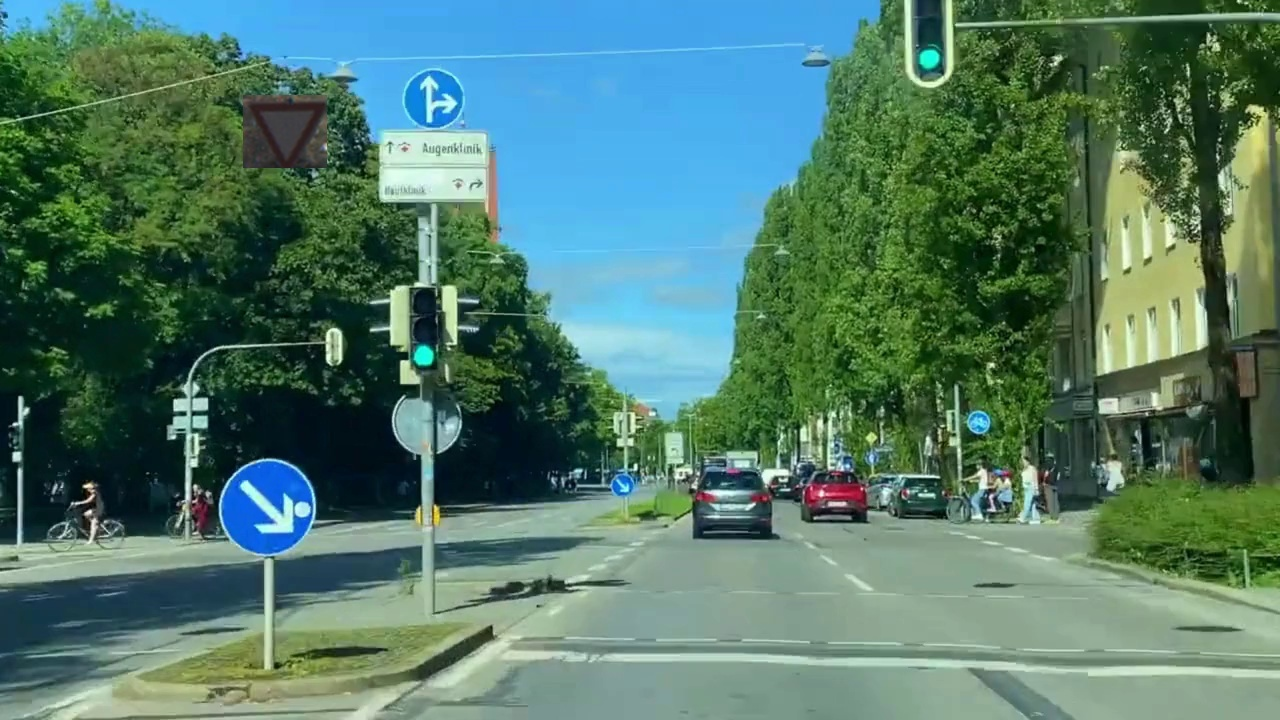Yield: (243, 95, 327, 168)
